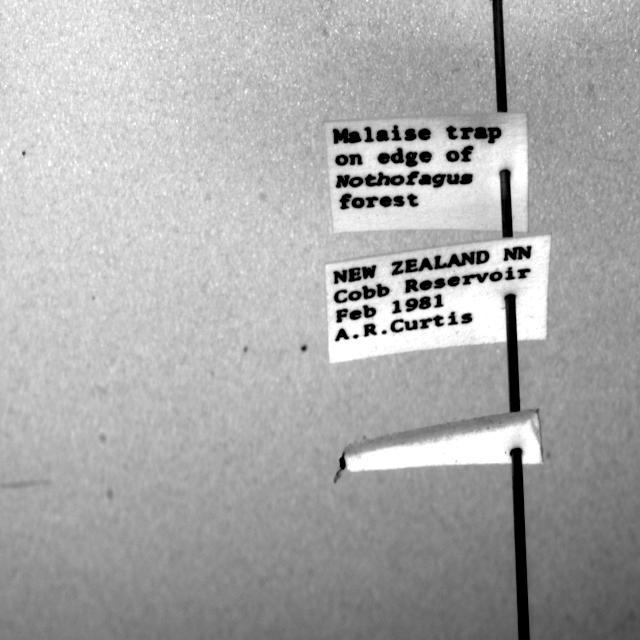typed_label: (326, 234, 551, 364), (325, 112, 529, 232)
